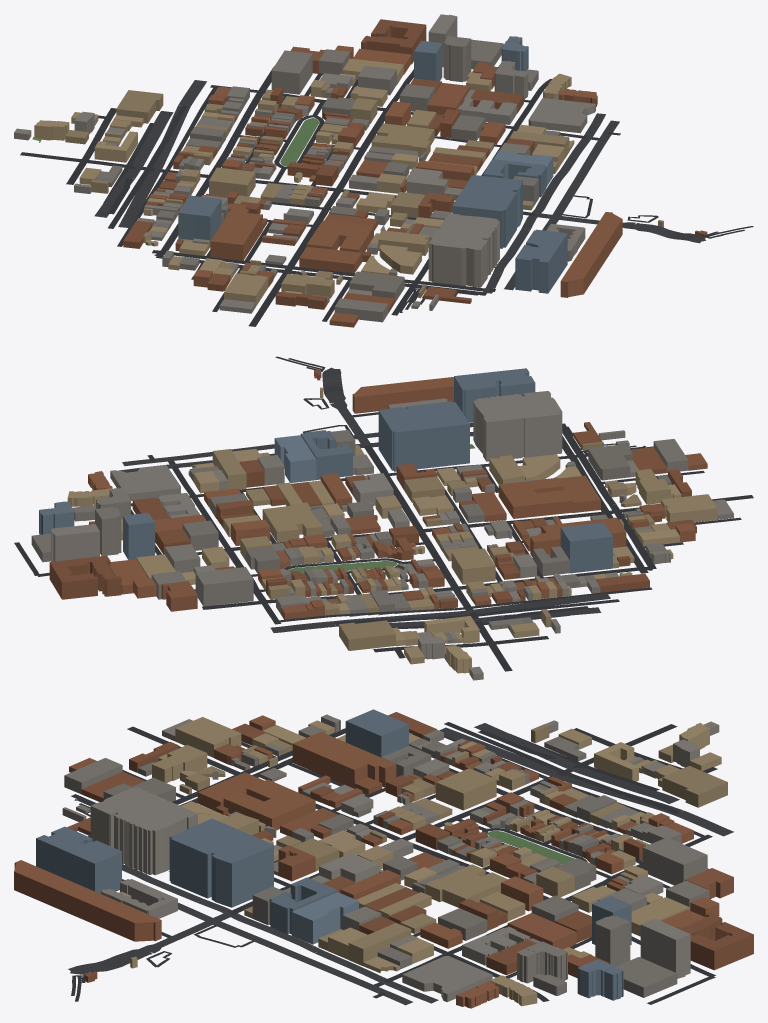
File: tile_14_12.glb
3 views of the same model, one above another, from view 1: azimuth 30°, elevation 25°; view 2: azimuth 150°, elevation 25°; view 3: azimuth 270°, elevation 25° (orthographic). The views are drawn at different scales.
Visible parts, largest first — view 1: bld_14_12, road_14_12, grn_14_12; view 2: bld_14_12, road_14_12, grn_14_12; view 3: bld_14_12, road_14_12, grn_14_12.
Boxes of the visible parts, <box> form: bld_14_12: <box>14,14,707,327</box>; road_14_12: <box>20,67,753,326</box>; grn_14_12: <box>32,118,319,166</box>; bld_14_12: <box>31,368,733,680</box>; road_14_12: <box>14,356,753,671</box>; grn_14_12: <box>289,444,475,573</box>; bld_14_12: <box>14,709,753,1008</box>; road_14_12: <box>68,722,733,1005</box>; grn_14_12: <box>168,831,574,871</box>.
Bounding box in the file's own units: 859 × 66.89 × 921.
